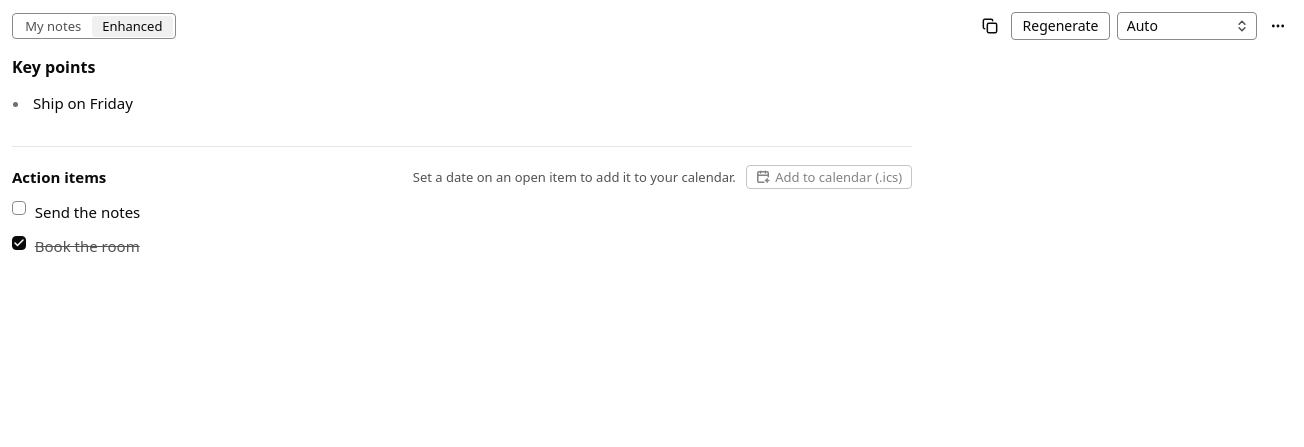
Test case: Generate and Regenerate buttons › hides the whole bar in notes mode
What coordinates should you click on to do the following:
click the radio button labelled "My notes"
I would click on:
 (53, 26)
Its box is [15,16,92,36].
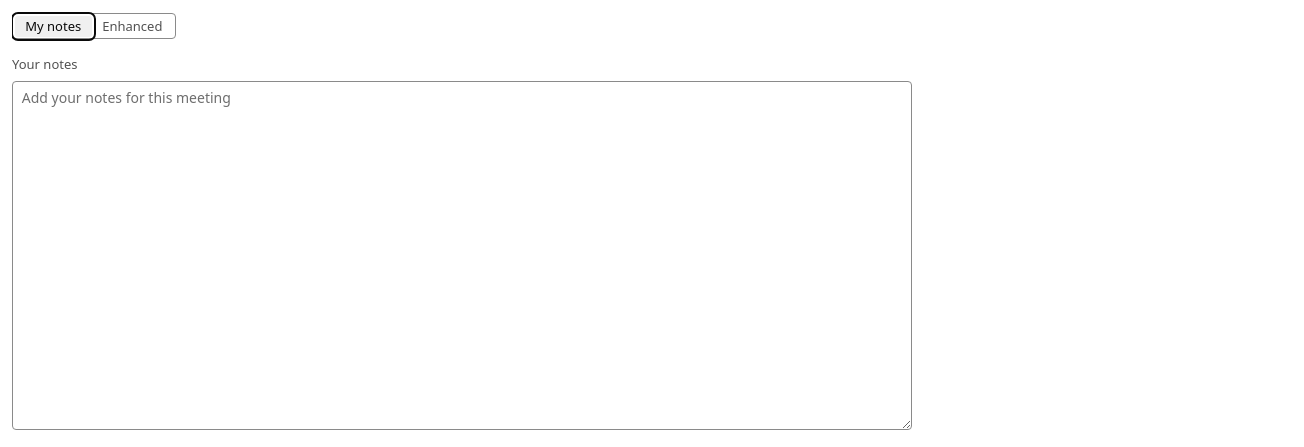
Result: the button with test id "BtnRegenerateSummary" is gone
